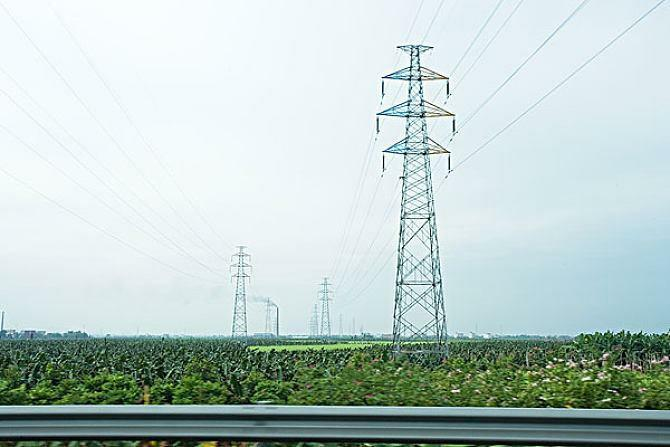power_tower: (373, 34, 460, 361), (227, 237, 260, 339), (315, 274, 342, 338)
